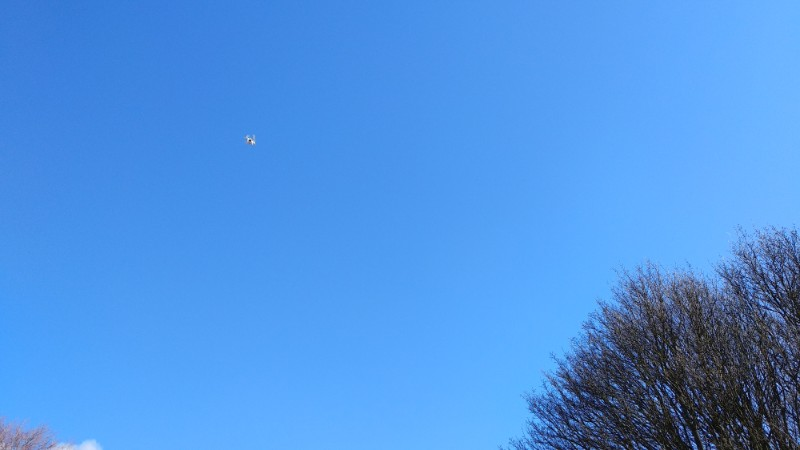drone: (244, 134, 257, 146)
